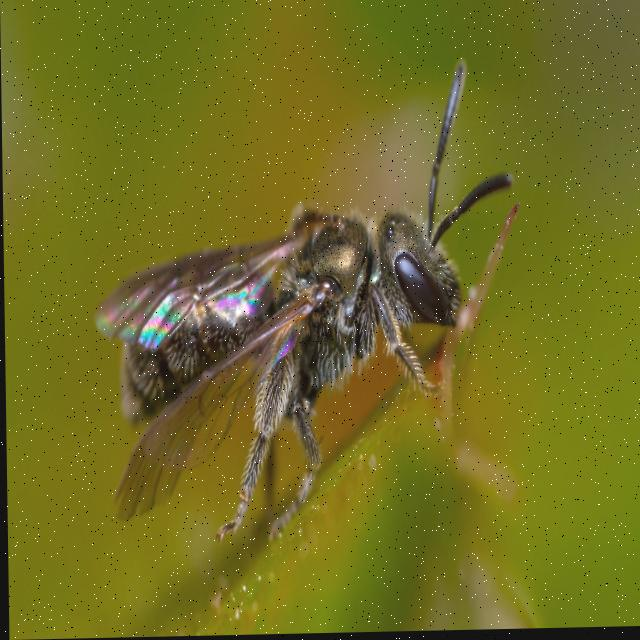Lasioglossum: (93, 51, 523, 548)
